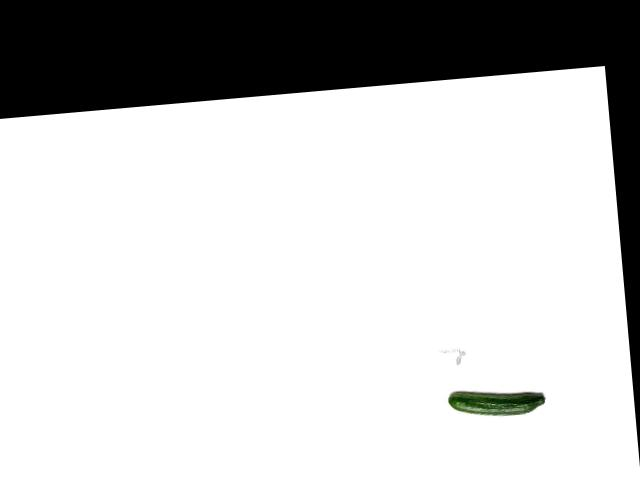cucumber: (446, 384, 545, 420)
